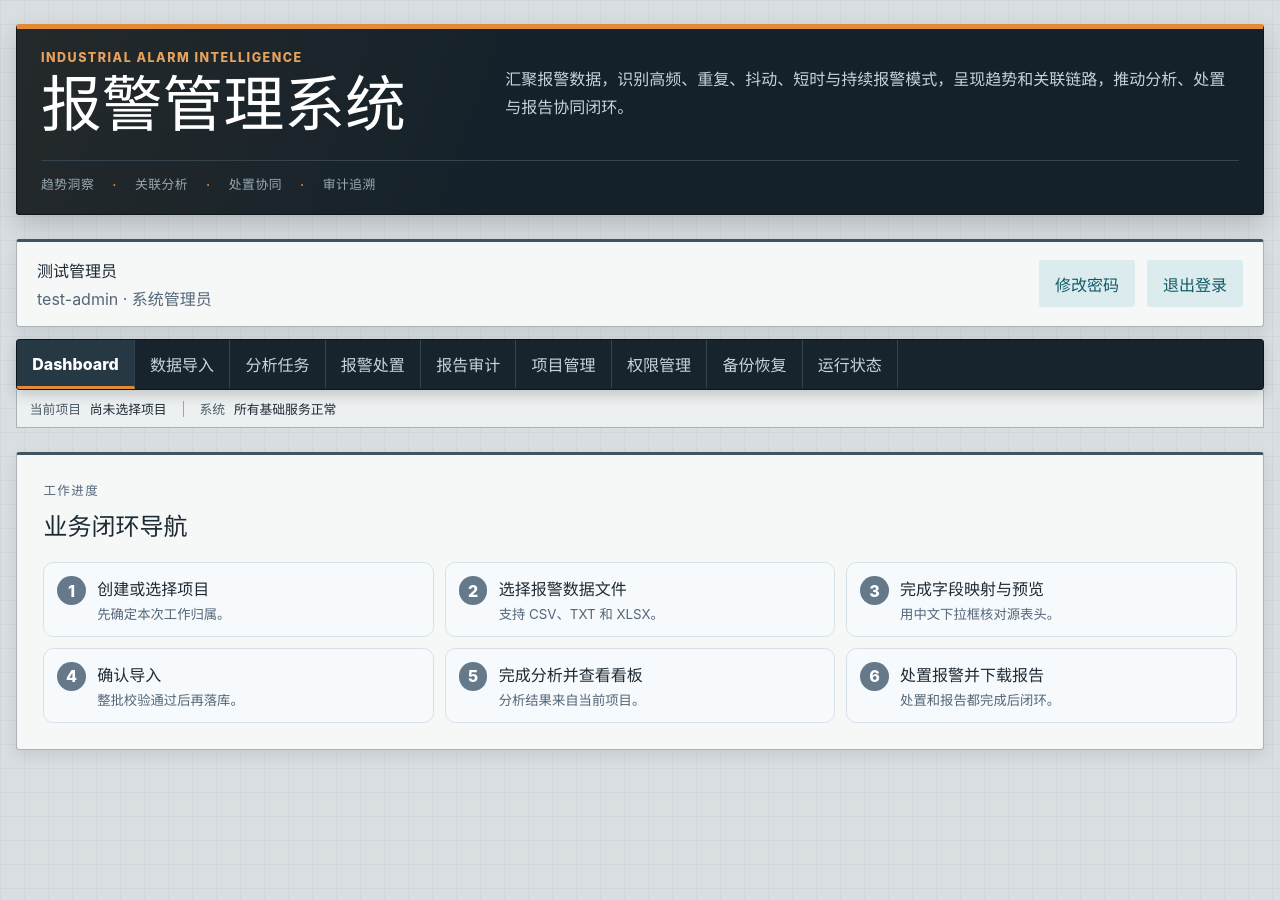
Test: M10 全中文项目化入口 › 显示产品能力叙事、六步引导、独立页签和中文健康状态
The image size is (1280, 900).
Check: the heading "报警管理系统" is shown, box top-left (41, 67), bottom-right (406, 141)
Check: the text "汇聚报警数据，识别高频、重复、抖动、短时与持续报警模式，呈现趋势和关联链路，推动分析、处置与报告协同闭环。" is shown, box top-left (505, 65), bottom-right (1239, 121)
Click the tab with test id "workspace-tab-status". click: click(850, 365)
box: top-left (803, 340), bottom-right (898, 390)
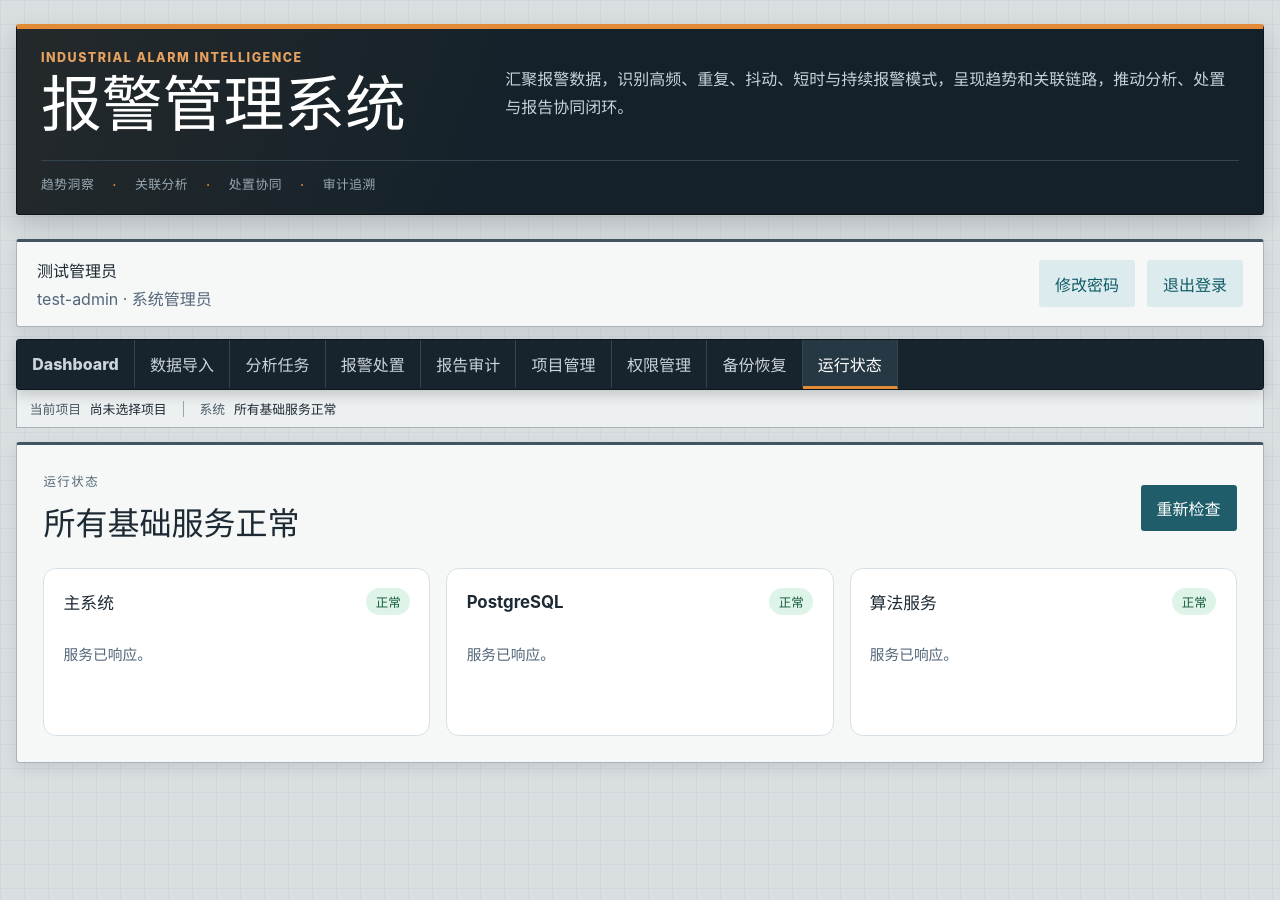
Check: the element with class "status-panel" is shown, box top-left (16, 442), bottom-right (1264, 763)
Check: the text "正常" is shown 3 times, box top-left (366, 588), bottom-right (410, 615); top-left (769, 588), bottom-right (813, 615); top-left (1172, 588), bottom-right (1216, 615)
